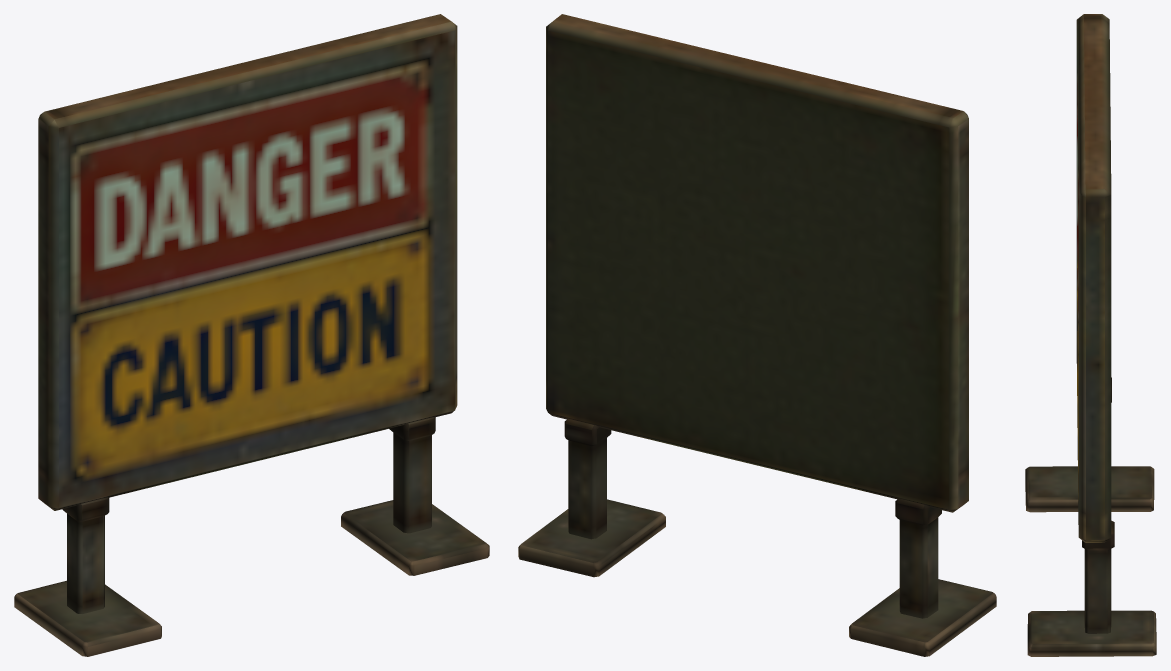
Rendered from safety_danger_caution_sign.fbx.
The picture shows the model from 3 angles, left to right: view 1: azimuth 30°, elevation 25°; view 2: azimuth 150°, elevation 25°; view 3: azimuth 270°, elevation 25°; orthographic projection. The views are drawn at different scales.
Parts seen in each view (by area): view 1: safety_danger_caution_sign; view 2: safety_danger_caution_sign; view 3: safety_danger_caution_sign.
Part boxes in pixels (box(x1,y1,x2,y2)): safety_danger_caution_sign: box(14, 14, 489, 656); safety_danger_caution_sign: box(518, 14, 996, 656); safety_danger_caution_sign: box(1025, 14, 1156, 656).
Size of the model in its own units: 91.25 by 109 by 27.99.
